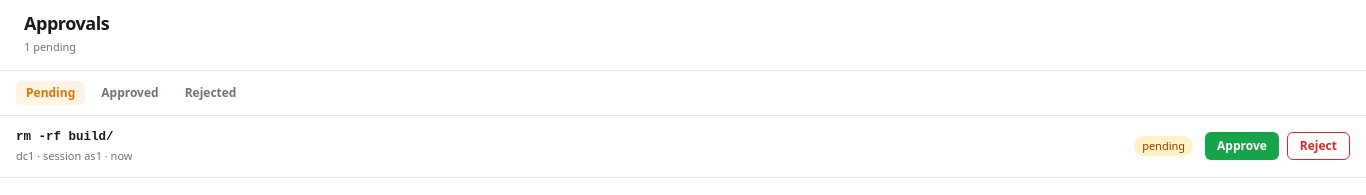
Scenario: Approvals actions › shows the awaiting state after a 202 without flipping the status
Expected: the text "rm -rf build/" is shown, [16,130,114,144]
Click the button "Approve". click: [1242, 146]
box: [1205,132,1279,160]
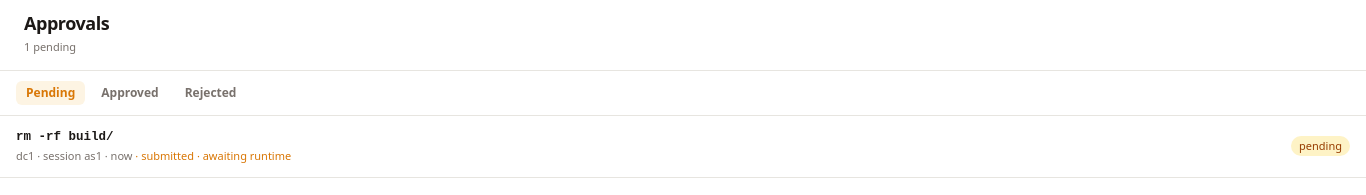
Expected: the text "pending" is shown, [1291,136,1350,156]
Result: the text "· submitted · awaiting runtime" is shown at [132,148,291,163]
